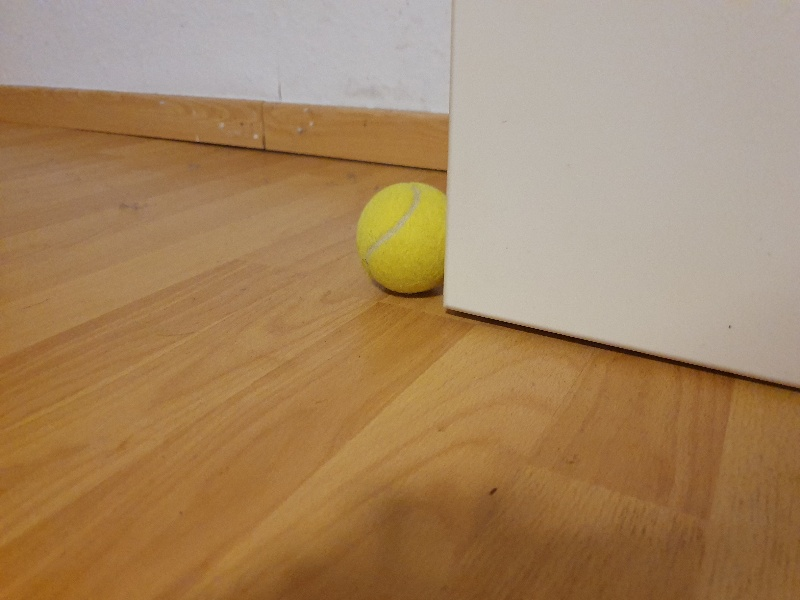Tennisball: (350, 173, 464, 304)
